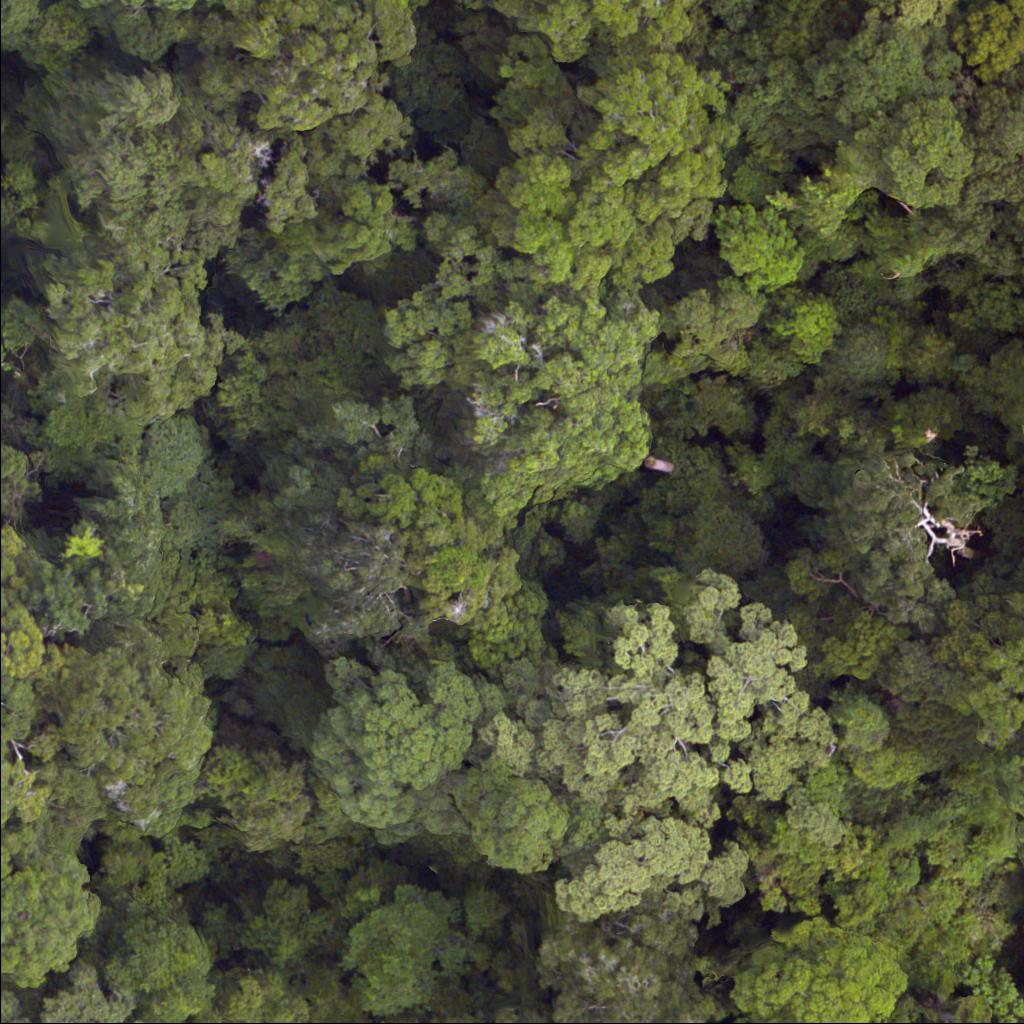crown: (498, 558, 857, 945), (391, 280, 674, 519), (500, 65, 726, 282), (13, 244, 233, 455), (59, 87, 265, 268), (807, 426, 998, 611), (0, 546, 111, 843), (299, 641, 477, 826), (454, 925, 745, 1023), (723, 908, 930, 1023), (930, 585, 1023, 749), (0, 968, 142, 1023), (1002, 771, 1023, 855), (1013, 381, 1023, 415)
